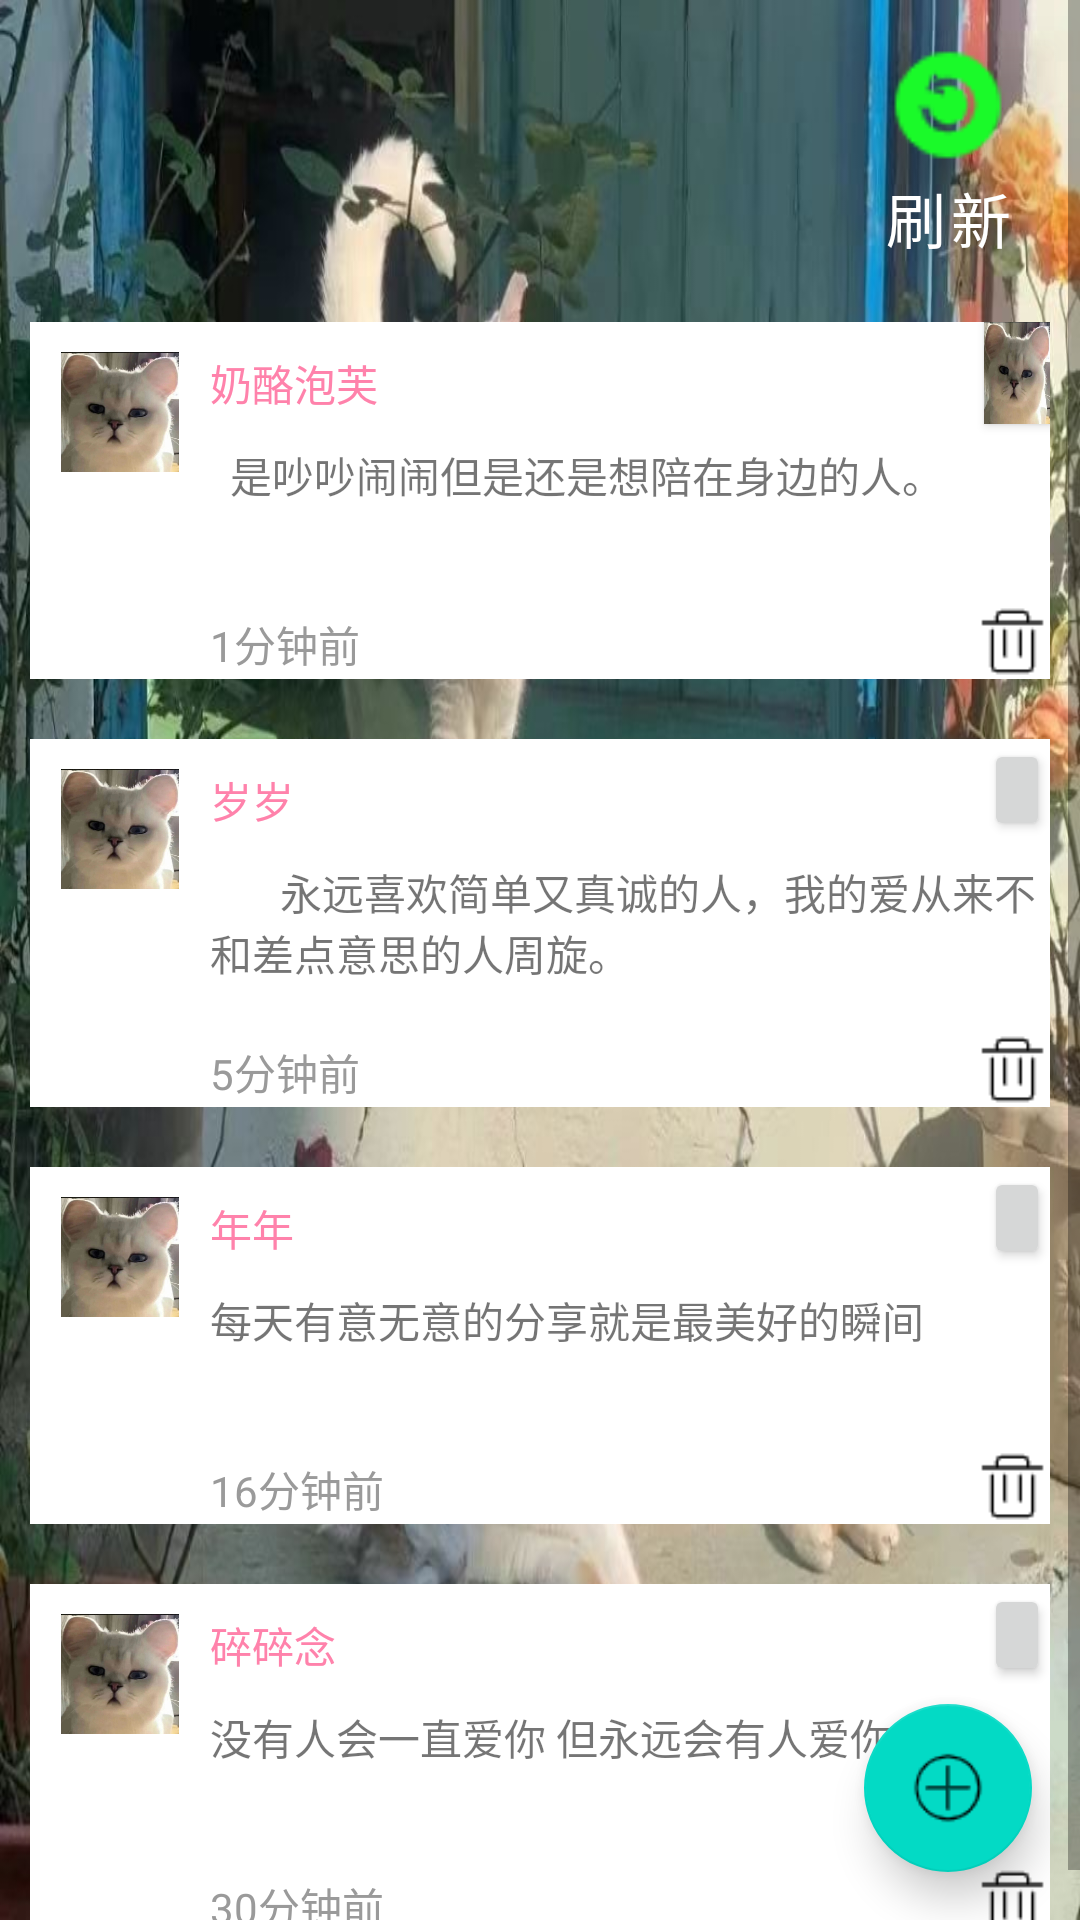

Icon click points for this 1080×1920 phone screenshot, format (x,y):
tianjia: (948,1788)
